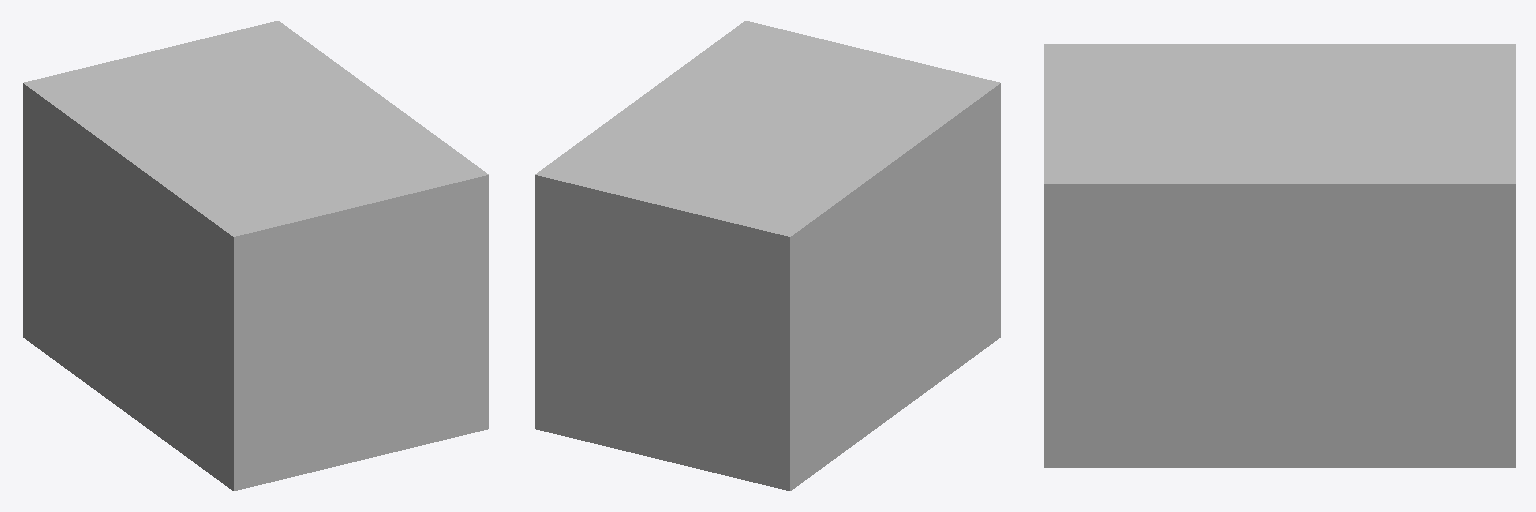
robot.urdf — box.urdf:
<?xml version="1.0" ?>
<robot name="box.urdf">
  <link name="baseLink">
    <contact>
      <lateral_friction value="1.0"/>
      <rolling_friction value="0.0001"/>
      <inertia_scaling value="3.0"/>
    </contact>
    <inertial>
      <origin rpy="0 0 0" xyz="0 0 0"/>
       <mass value="0.1"/>
       <inertia ixx="1" ixy="0" ixz="0" iyy="1" iyz="0" izz="1"/>
    </inertial>
    <visual>
      <origin rpy="0 0 0" xyz="0 0 0"/>
      <geometry>
        <!-- <box size="0.243 0.34700000000000003 0.231"/> -->
        <mesh filename="box/box.obj" scale="0.243 0.34700000000000003 0.231"/>
      </geometry>
      <material name="white">
        <color rgba="0.8 0.8 0.8 1"/>
      </material>
    </visual>
    <collision>
      <origin rpy="0 0 0" xyz="0 0 0"/>
      <geometry>
        <mesh filename="box/box.obj" scale="0.243 0.34700000000000003 0.231"/>
	 	    <!-- <box size="0.243 0.34700000000000003 0.231"/> -->
      </geometry>
    </collision>
  </link>
</robot>

--- Render facts (derived) ---
Views: 3 orthographic renders of the robot side by side, from view 1: azimuth 30°, elevation 25°; view 2: azimuth 150°, elevation 25°; view 3: azimuth 270°, elevation 25°.
Robot: box.urdf — 1 links, 0 joints (none); root link baseLink; default pose: all joints at 0.
Visible links, largest first — view 1: baseLink; view 2: baseLink; view 3: baseLink.
Link boxes in pixels (x1,y1,x2,y2): baseLink: (23, 21, 488, 490); baseLink: (535, 21, 1000, 490); baseLink: (1044, 44, 1515, 467).
Size in the robot's own frame: 0.243 by 0.347 by 0.231 metres.
1 mesh visuals loaded from 1 distinct referenced files (1 OBJ).
